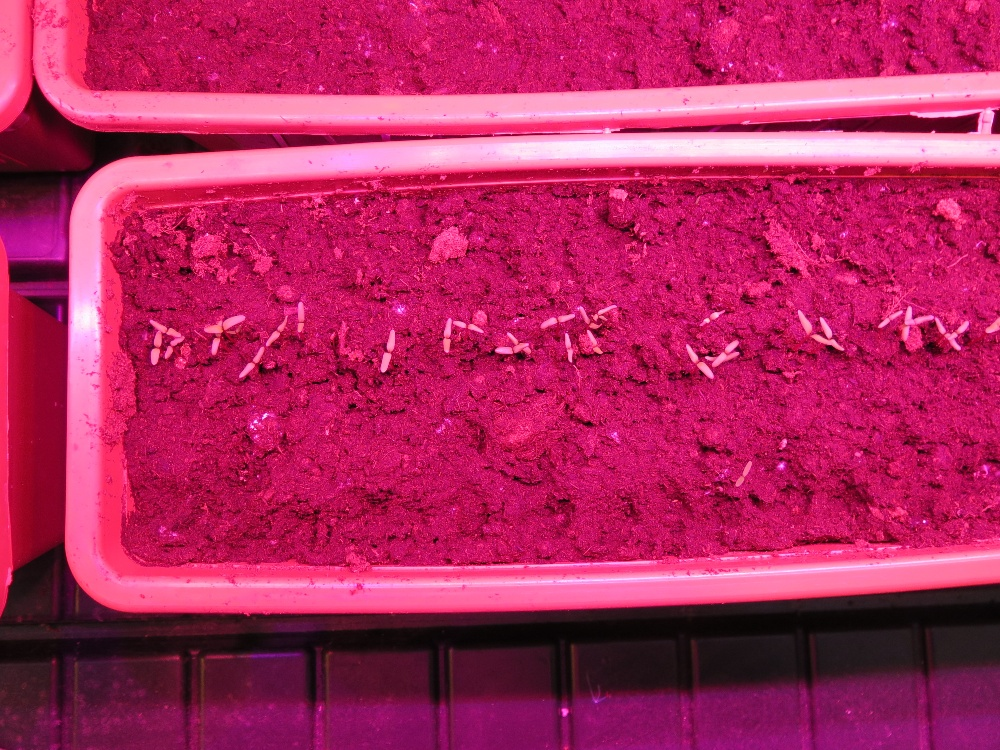crop: (794, 306, 844, 355), (933, 313, 968, 358), (682, 342, 714, 383), (706, 340, 744, 367), (238, 345, 265, 380), (265, 312, 289, 347), (379, 327, 396, 375), (538, 311, 575, 330), (877, 307, 904, 329), (451, 318, 485, 334), (699, 307, 726, 327), (148, 330, 163, 366), (164, 332, 181, 362), (441, 315, 452, 355), (563, 331, 574, 365), (295, 298, 305, 335)
weed: (734, 458, 752, 489)
